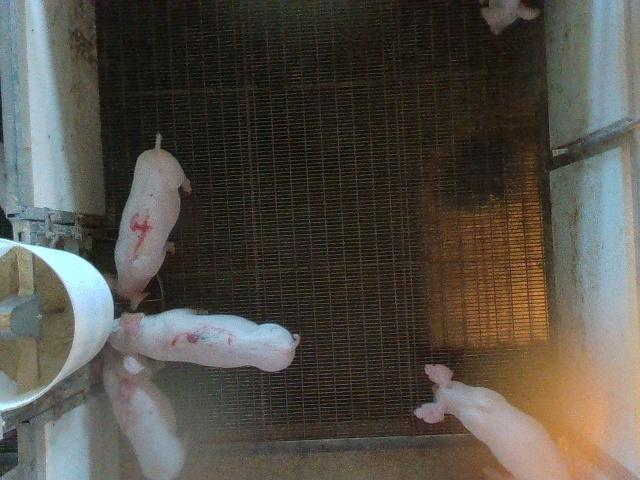pig-3: (109, 309, 300, 375)
pig-4: (115, 134, 191, 308)
pig-5: (104, 348, 185, 479)
